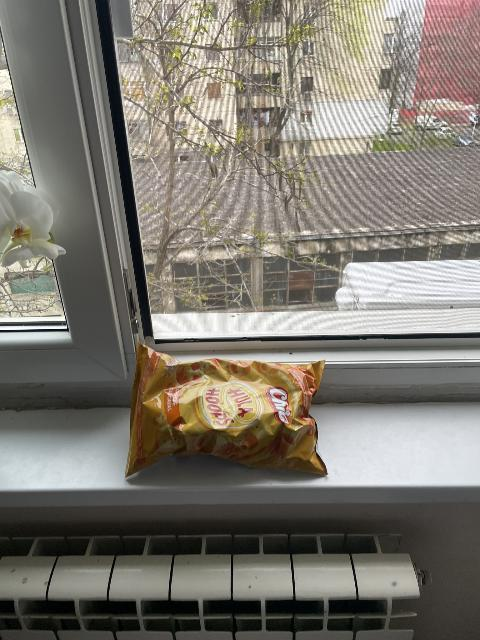Chio Hula Hoops Cheese 70g: (128, 347, 329, 476)
